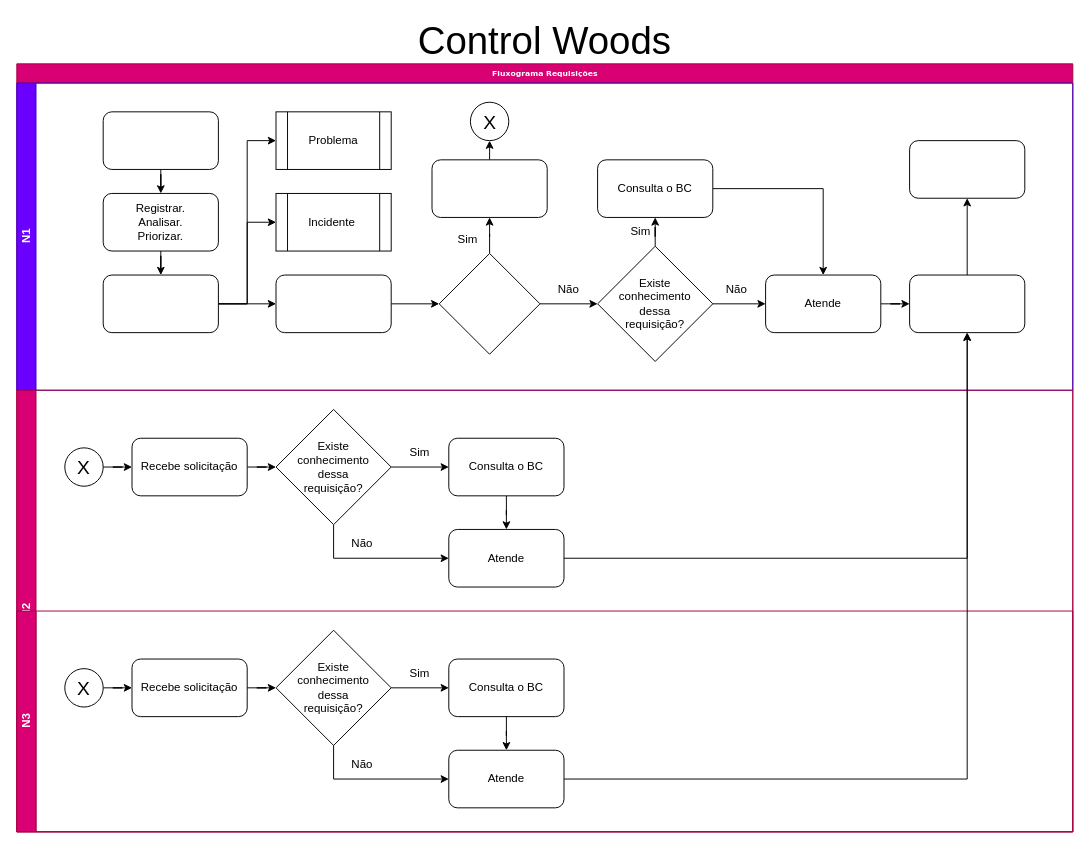
Some shapes in this 1090 by 849 pixel diagram are drawn without their labels. The centre of each missing label's shape, as x and y in pixels:
"Atualiza BC" goes at (x=967, y=303).
"Comunica Cliente" goes at (x=967, y=169).
"Definir requisição, incidente ou problema." goes at (x=160, y=303).
"Encaminha para o nível correto" goes at (x=489, y=188).
"Receber solicitação" goes at (x=160, y=140).
"Requisição" goes at (x=333, y=303).
"Requisição é de outro nível" goes at (x=489, y=303).
